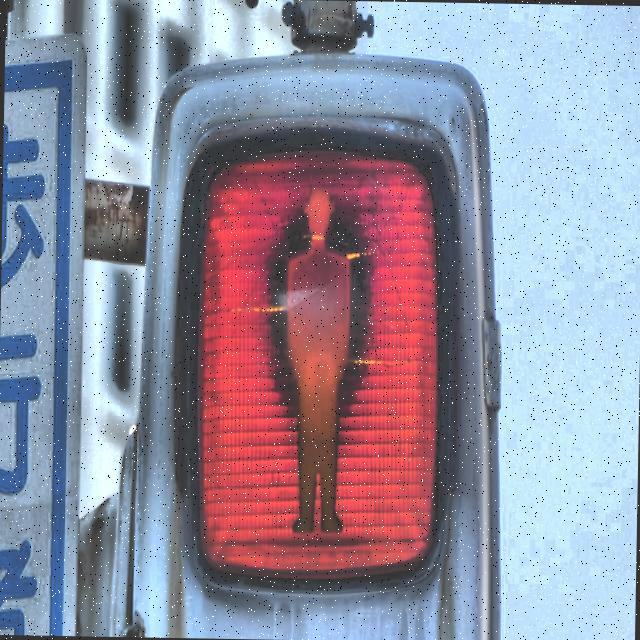red_light: (280, 174, 356, 542)
